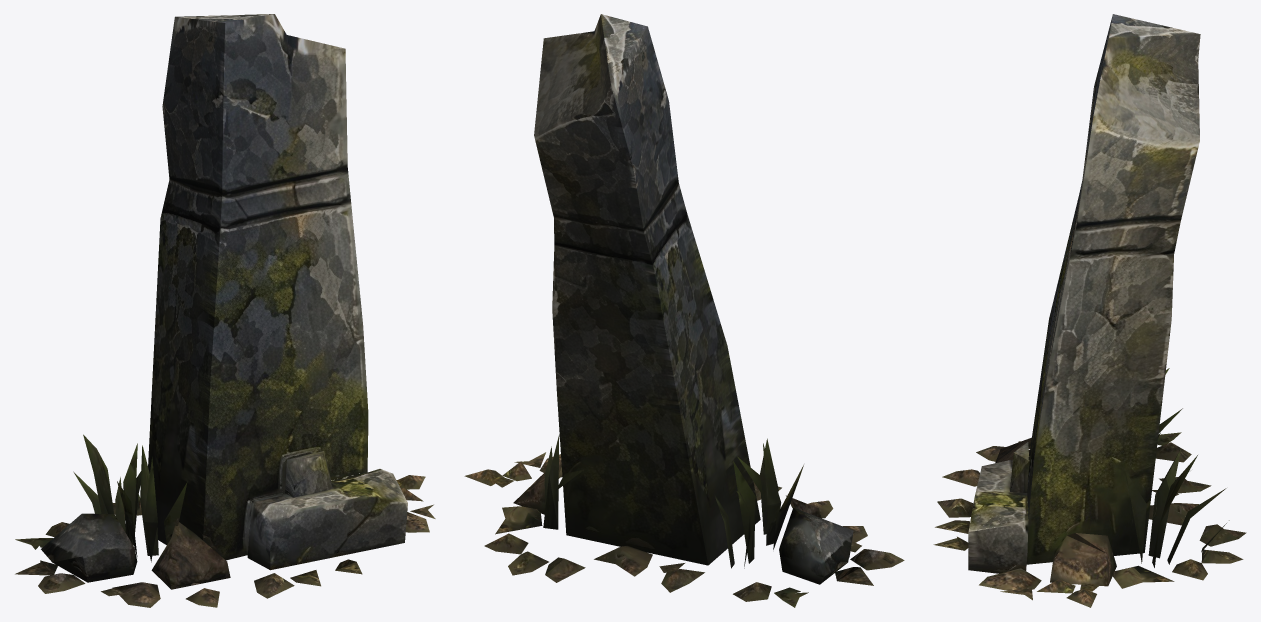
The model's file is act1_kit_v1_marker_stone.glb.
The picture shows the model from 3 angles, left to right: view 1: azimuth 30°, elevation 25°; view 2: azimuth 150°, elevation 25°; view 3: azimuth 270°, elevation 25°; orthographic projection. The views are drawn at different scales.
Parts seen in each view (by area): view 1: A06_2_marker_stone; view 2: A06_2_marker_stone; view 3: A06_2_marker_stone.
Part boxes in pixels (<box>): A06_2_marker_stone: <box>15,14,435,607</box>; A06_2_marker_stone: <box>464,14,904,607</box>; A06_2_marker_stone: <box>933,14,1246,607</box>.
Bounding box in the file's own units: 0.8421 × 1 × 0.5551.
Materials: 1 (1 with a texture image).
